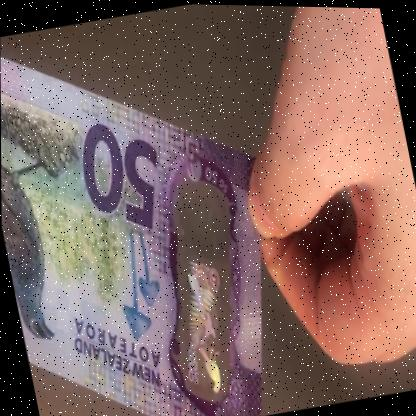50B: (151, 189, 251, 401)
